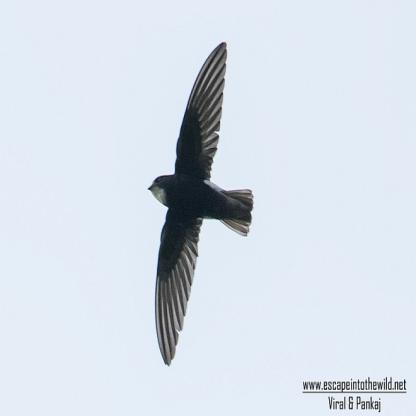Burung: (147, 41, 253, 365)
